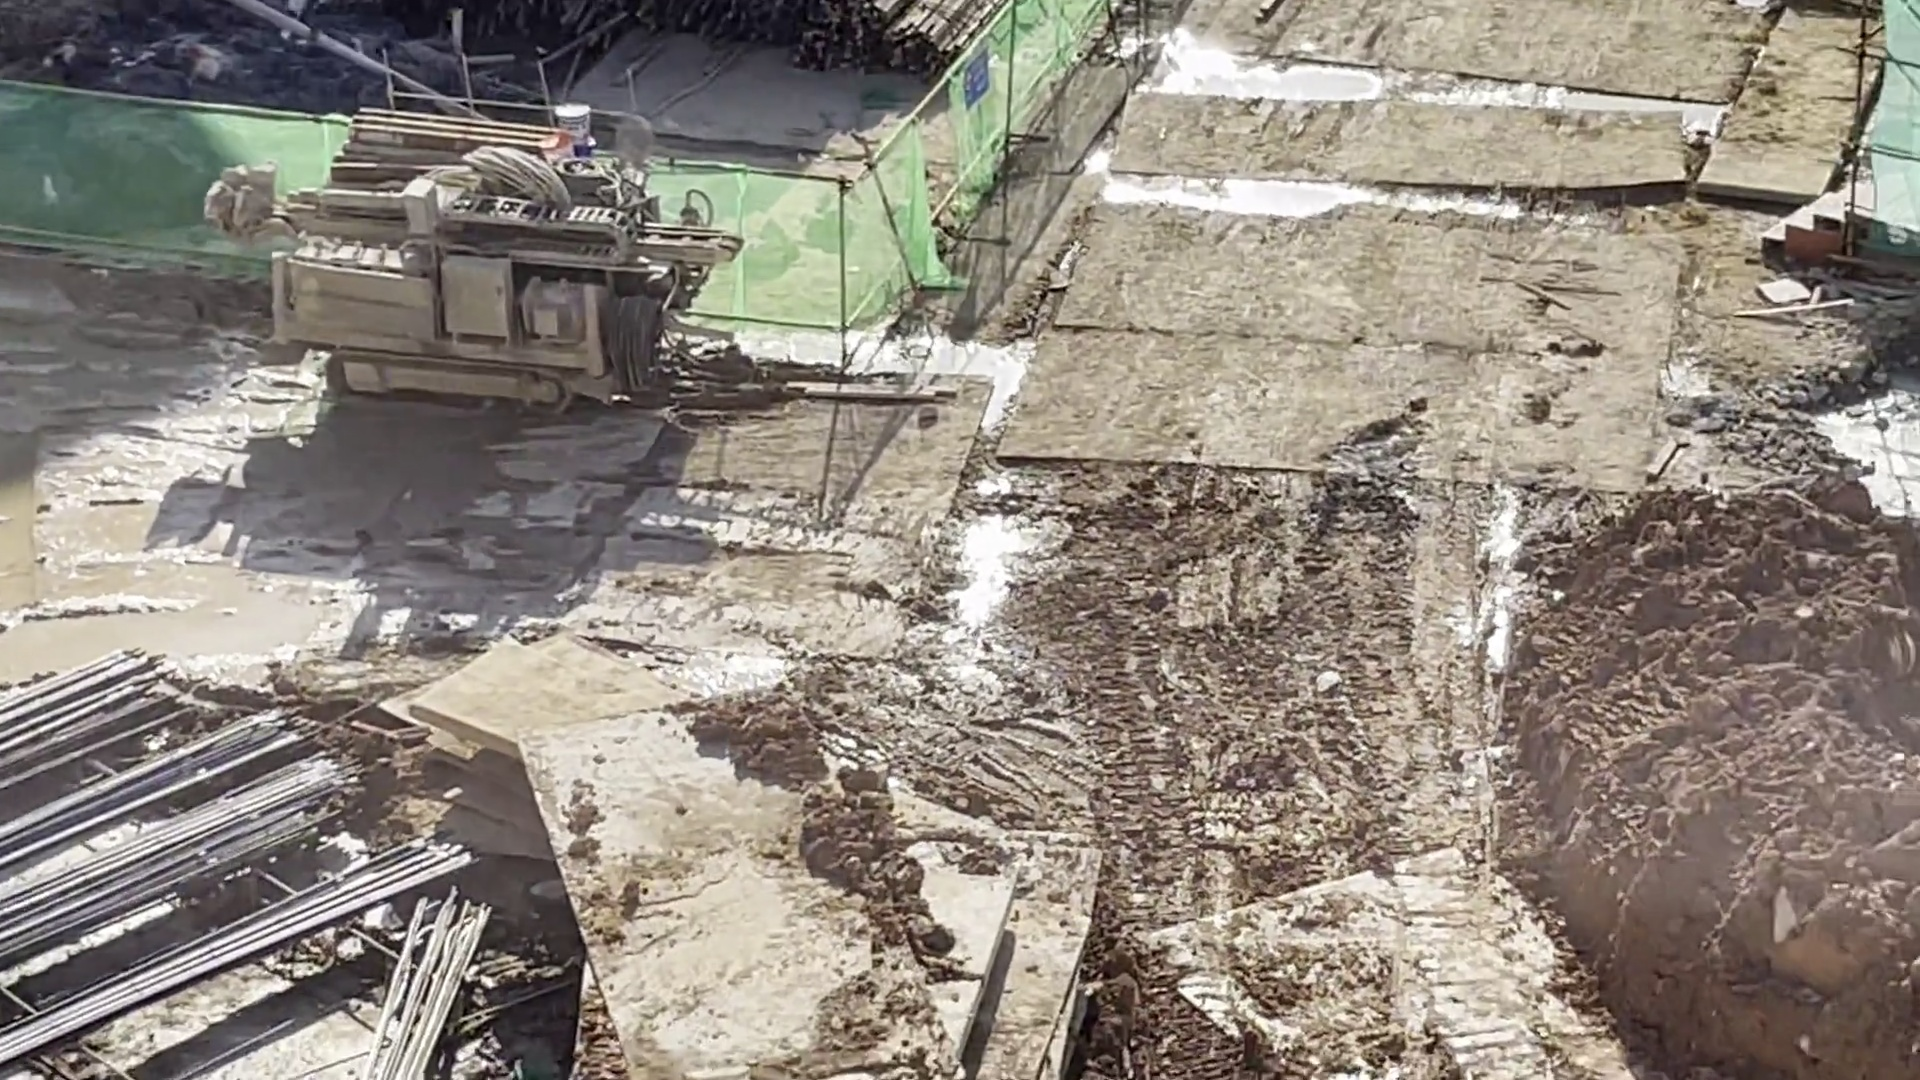rebar: (7, 717, 471, 1071), (1, 640, 200, 782), (367, 891, 497, 1080)
wood: (771, 1, 984, 82)
